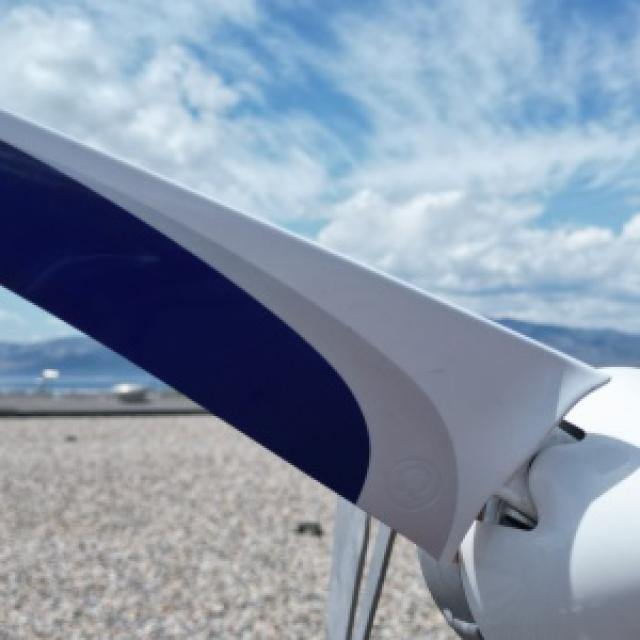healthy: (4, 109, 638, 638), (0, 420, 331, 638)
